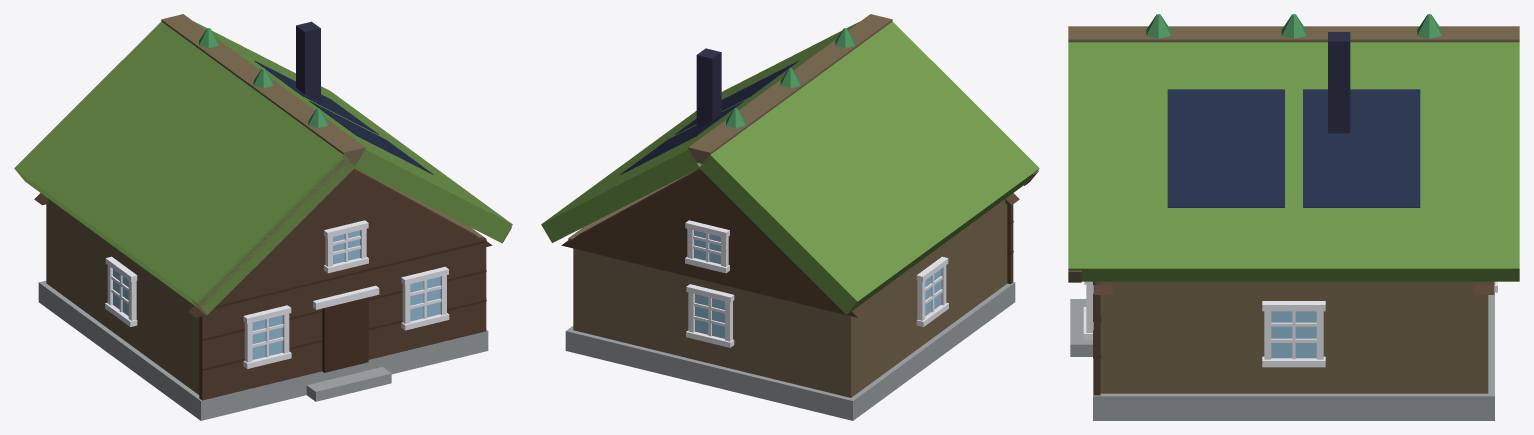
File: house-1x1-1f-turf-a-solar.glb
3 views of the same model, side by side, from view 1: azimuth 30°, elevation 25°; view 2: azimuth 150°, elevation 25°; view 3: azimuth 270°, elevation 25° (orthographic). The views are drawn at different scales.
Parts seen in each view (by area): view 1: house-1x1-1f-turf-a-solar; view 2: house-1x1-1f-turf-a-solar; view 3: house-1x1-1f-turf-a-solar.
Boxes of the visible parts, bbox=[...] form: house-1x1-1f-turf-a-solar: bbox=[14, 14, 512, 420]; house-1x1-1f-turf-a-solar: bbox=[541, 14, 1039, 420]; house-1x1-1f-turf-a-solar: bbox=[1068, 14, 1519, 420].
Size of the model in its own units: 1 by 0.82 by 1.
Materials: 1 (1 with a texture image).
